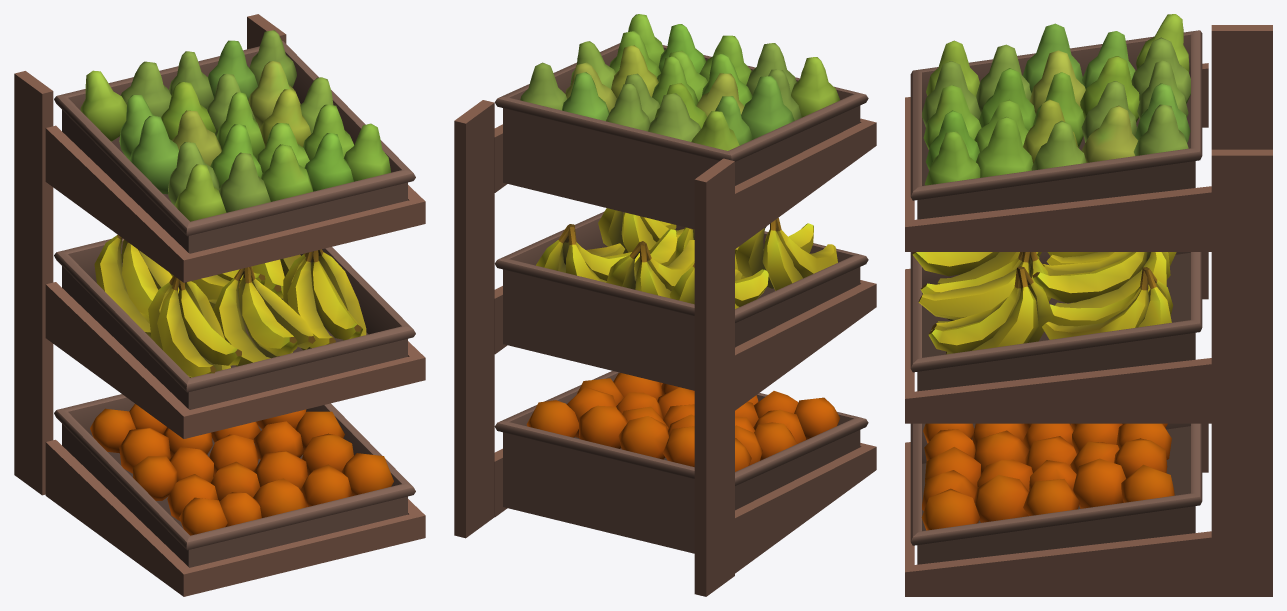
Rendered from consumables-vegetables-marketstand_v2.glb.
3 views of the same model, side by side, from view 1: azimuth 30°, elevation 25°; view 2: azimuth 150°, elevation 25°; view 3: azimuth 270°, elevation 25° (orthographic). The views are drawn at different scales.
Parts seen in each view (by area): view 1: MarketStand_v2; view 2: MarketStand_v2; view 3: MarketStand_v2.
Part boxes in pixels (box(x1,y1,x2,y2)): MarketStand_v2: box(14, 14, 425, 596); MarketStand_v2: box(454, 14, 876, 596); MarketStand_v2: box(905, 14, 1272, 596).
Bounding box in the file's own units: 0.5684 × 0.9571 × 0.6749.
